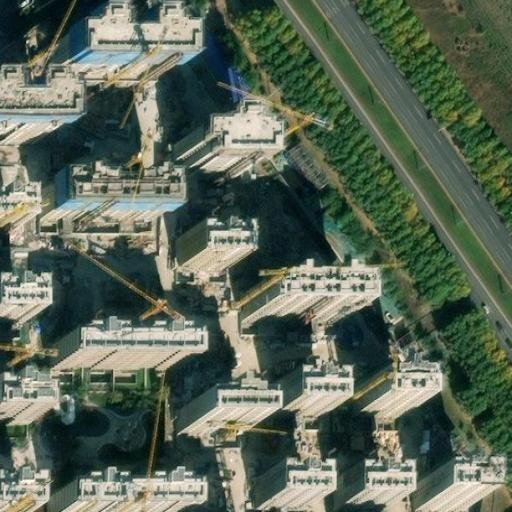building: (174, 17, 246, 105), (53, 21, 173, 69), (48, 478, 176, 512), (46, 331, 173, 364), (43, 181, 158, 217), (257, 276, 351, 314), (183, 119, 254, 169), (0, 86, 52, 134), (182, 395, 247, 432), (361, 373, 405, 412), (268, 387, 318, 420), (179, 237, 229, 268), (249, 483, 302, 512), (329, 483, 379, 512), (420, 481, 468, 506), (0, 294, 20, 327), (0, 204, 10, 234)
